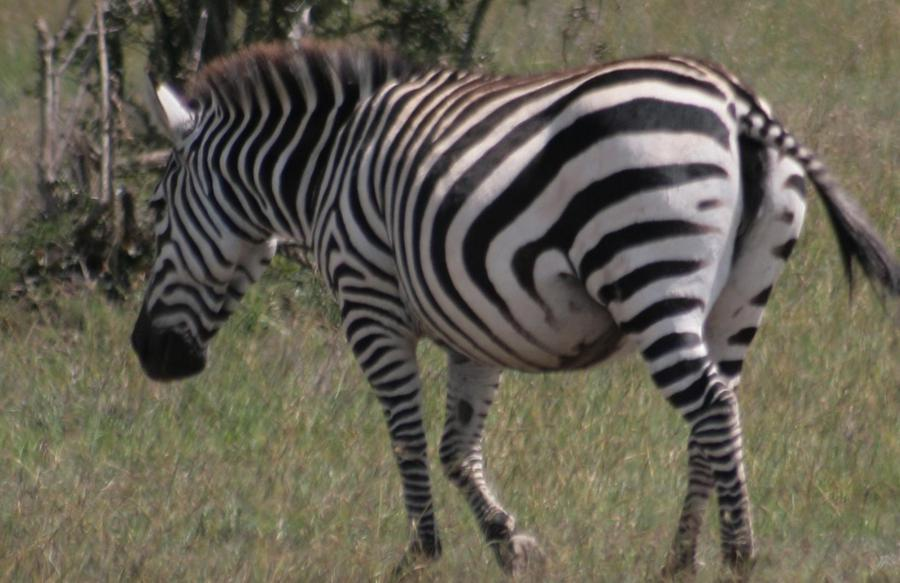zebra_plains: (278, 54, 733, 384)
